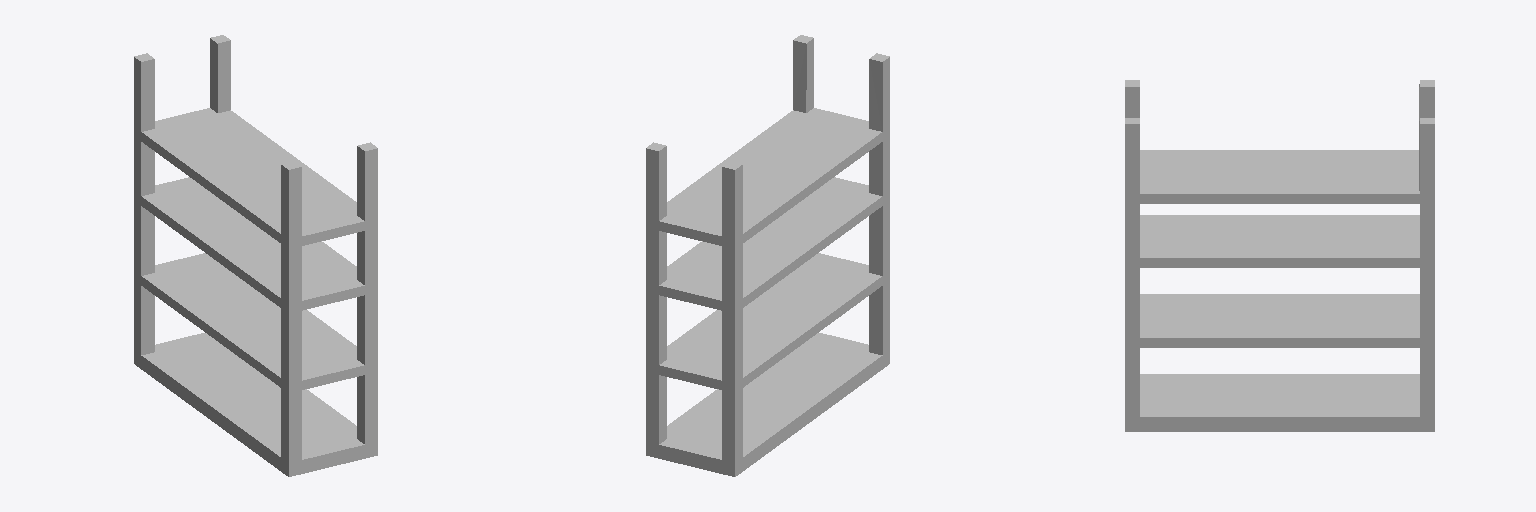
The model's file is shelf_v6.obj.
The picture shows the model from 3 angles: view 1: azimuth 30°, elevation 25°; view 2: azimuth 150°, elevation 25°; view 3: azimuth 270°, elevation 25°; orthographic projection.
Parts seen in each view (by area): view 1: shelf_v6_clean; view 2: shelf_v6_clean; view 3: shelf_v6_clean.
Part boxes in pixels (left/top/right/bottom): shelf_v6_clean: left=134, top=35, right=377, bottom=476; shelf_v6_clean: left=646, top=35, right=889, bottom=476; shelf_v6_clean: left=1125, top=80, right=1434, bottom=431.
Bounding box in the file's own units: 4 × 13.13 × 12.